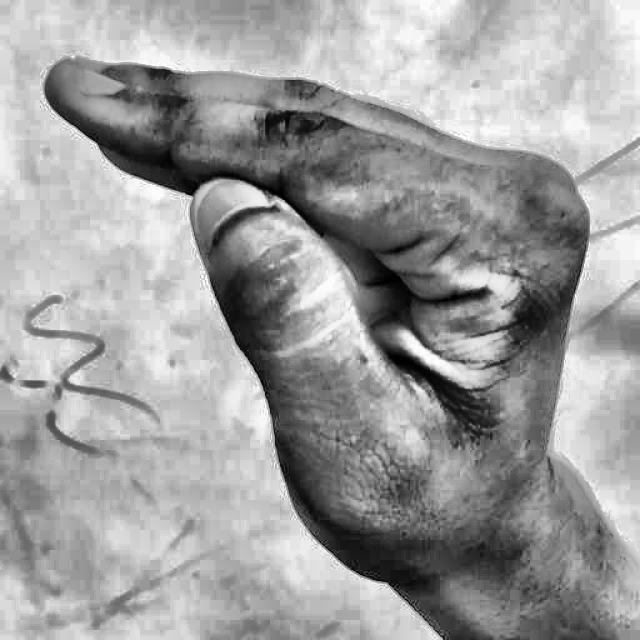Ga: (28, 31, 606, 601)
